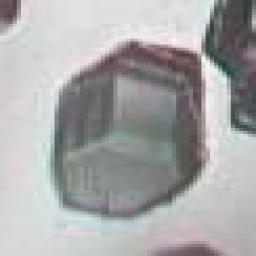crystals: (50, 43, 207, 222)
